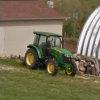Tractor: (16, 24, 83, 76)
